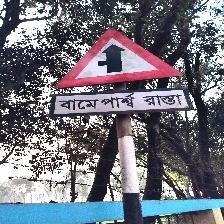Side-road-left: (50, 26, 192, 118)
